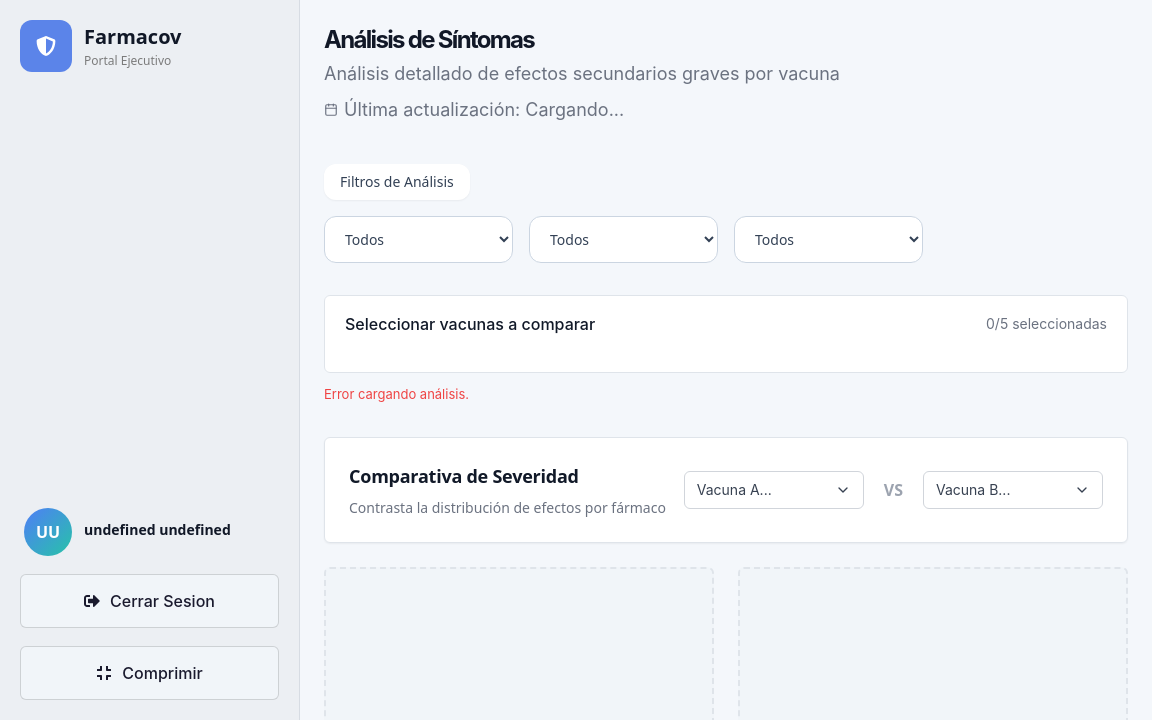
Flujo 4 — Análisis de síntomas con filtros y diagrama de araña › aplica el filtro de sexo "Femenino" y actualiza los datos
Expected: the text "Cargando vacunas..." is not shown
Step 1. Select "Femenino" in the 1st dropdown → (419, 240), box [324,216,513,263]
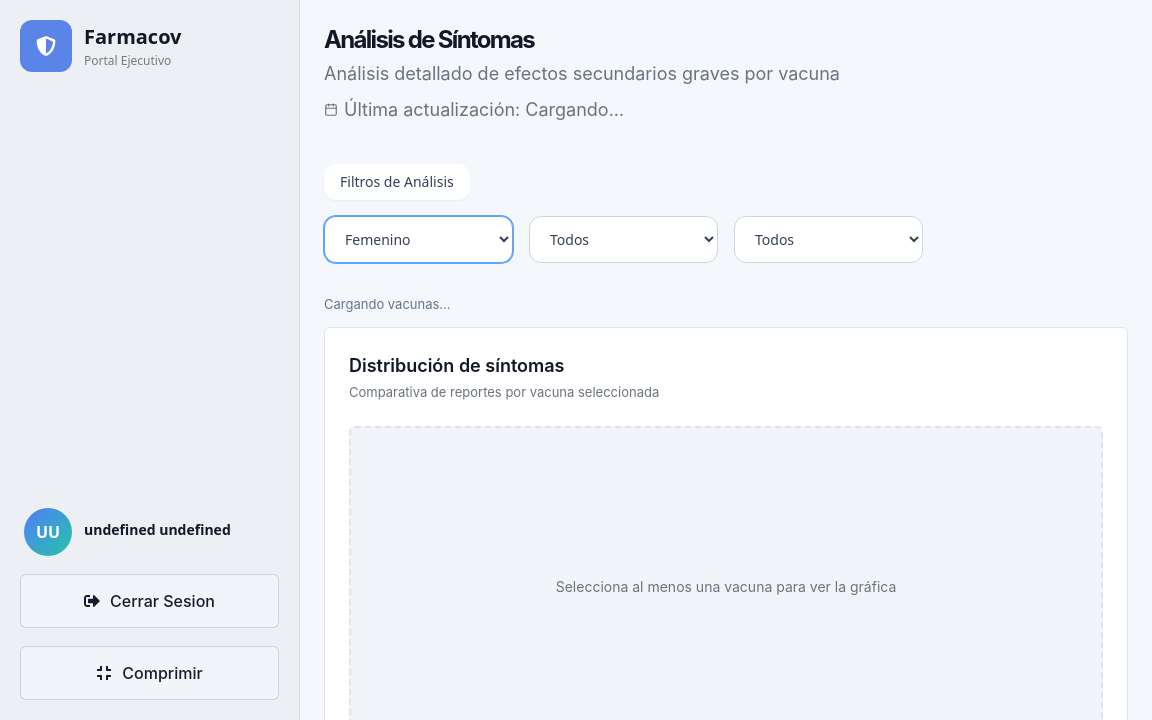
Now the text "Error cargando análisis." is gone
